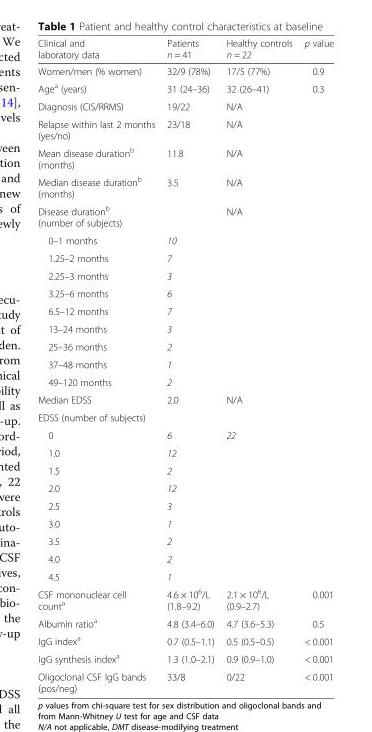table: (37, 37, 333, 693)
table column: (37, 37, 160, 693), (219, 37, 297, 693), (160, 37, 219, 693), (297, 37, 333, 693)
table column header: (37, 37, 333, 62)
table projected row header: (37, 408, 333, 426)
table row: (37, 201, 333, 231), (37, 143, 333, 172), (37, 172, 333, 201), (37, 584, 333, 613), (37, 115, 333, 143), (37, 667, 333, 693), (37, 37, 333, 62), (37, 78, 333, 97), (37, 97, 333, 115), (37, 231, 333, 249), (37, 266, 333, 284), (37, 284, 333, 302), (37, 319, 333, 337), (37, 337, 333, 355), (37, 372, 333, 390), (37, 390, 333, 408), (37, 408, 333, 426), (37, 443, 333, 461), (37, 461, 333, 479), (37, 496, 333, 514), (37, 514, 333, 532), (37, 549, 333, 567), (37, 613, 333, 631), (37, 631, 333, 649), (37, 649, 333, 667), (37, 249, 333, 266), (37, 302, 333, 319), (37, 355, 333, 372), (37, 426, 333, 443), (37, 479, 333, 496), (37, 532, 333, 549), (37, 567, 333, 584), (37, 62, 333, 78)
